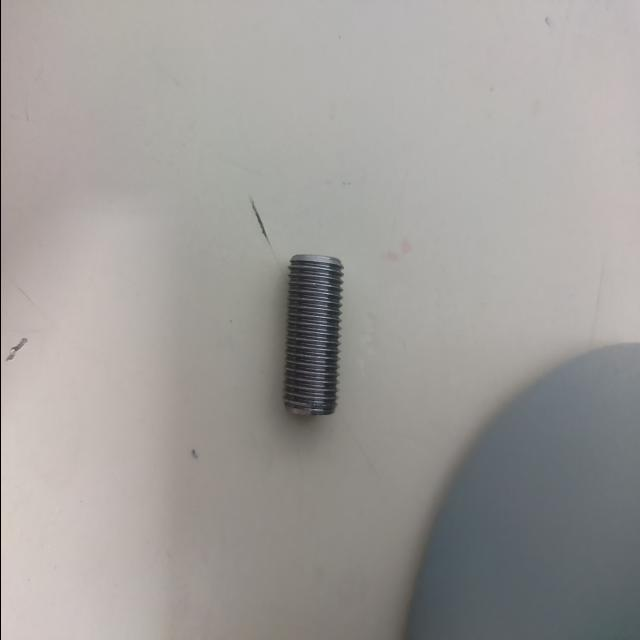Normal: (280, 253, 344, 417)
